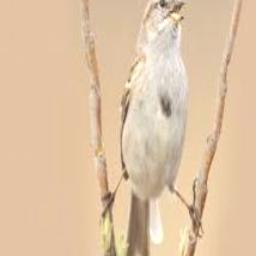Sparrow: (102, 0, 203, 256)
